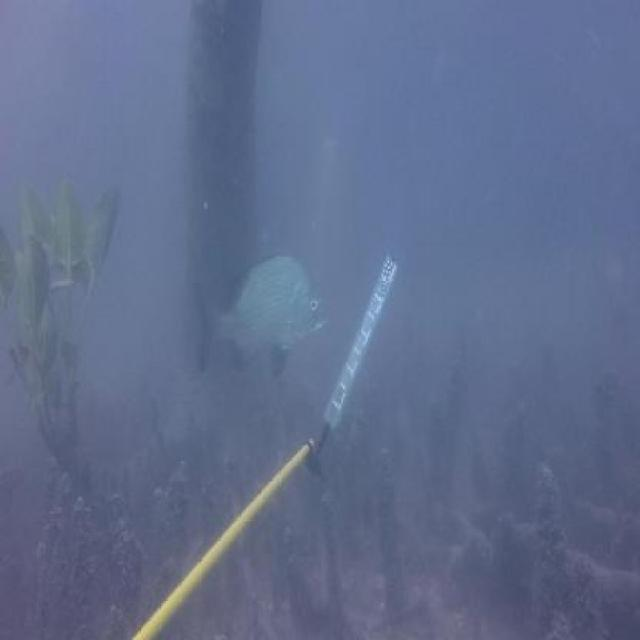acanthopagrus_palmaris: (195, 248, 334, 386)
